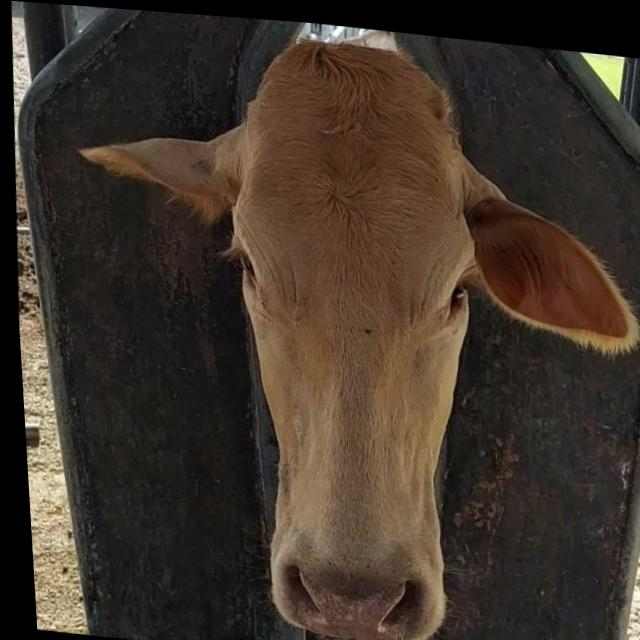cowFace: (205, 24, 501, 640)
